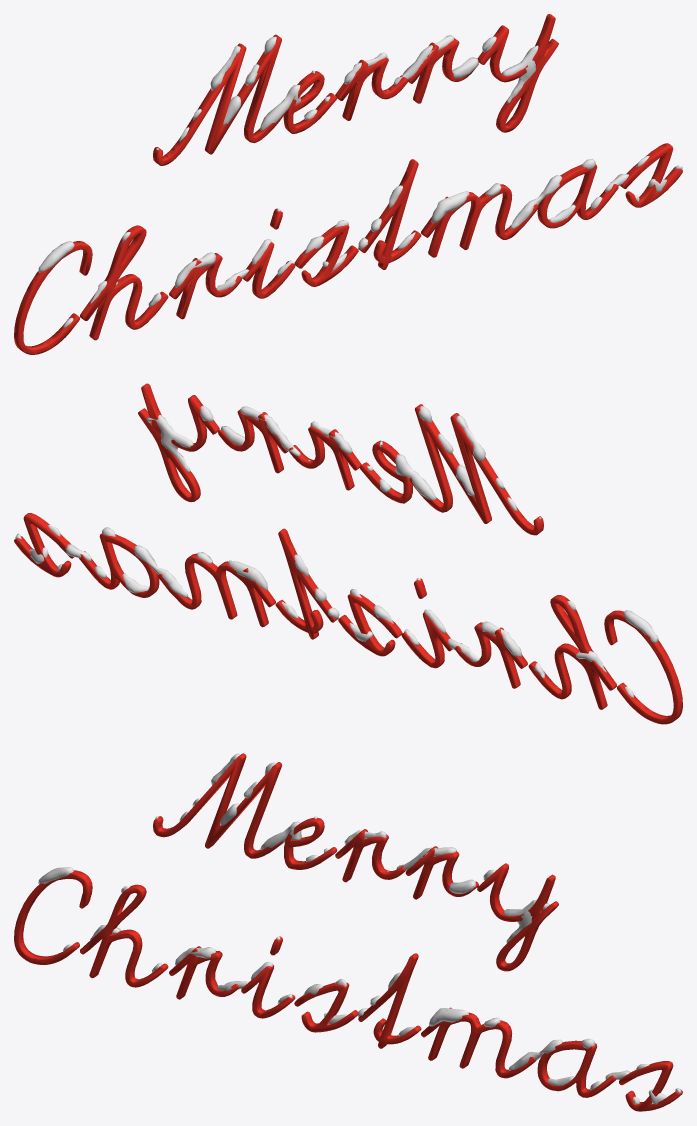
Rendered from panneau.glb.
The picture shows the model from 3 angles, top to bottom: view 1: azimuth 30°, elevation 25°; view 2: azimuth 150°, elevation 25°; view 3: azimuth 330°, elevation 25°; orthographic projection.
Parts seen in each view (by area): view 1: Merry_Red_0, MerrySnow_Snow_0; view 2: Merry_Red_0, MerrySnow_Snow_0; view 3: Merry_Red_0, MerrySnow_Snow_0.
Boxes of the visible parts, <box> form: Merry_Red_0: <box>14,14,682,354</box>; MerrySnow_Snow_0: <box>38,35,682,328</box>; Merry_Red_0: <box>14,383,682,724</box>; MerrySnow_Snow_0: <box>15,405,658,697</box>; Merry_Red_0: <box>14,753,682,1111</box>; MerrySnow_Snow_0: <box>38,753,681,1104</box>.
Bounding box in the file's own units: 0.8111 × 0.3006 × 0.0175.
